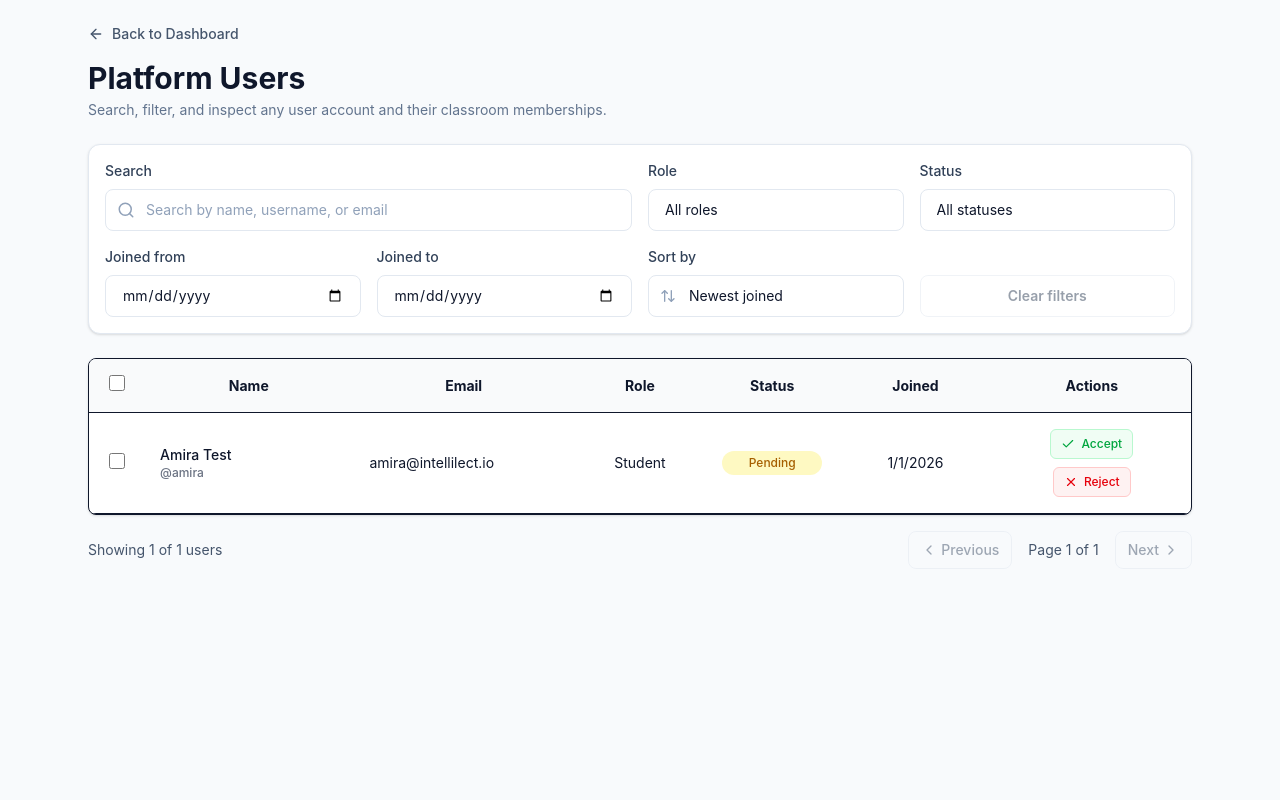
it: UsersDirectoryPage bulk status changes › clearing the selection hides the action bar
Expected: the text "Amira Test" is shown, top-left (160, 446), bottom-right (232, 463)
Click the checkbox named "Select Amira Test".
click(116, 460)  # box top-left (108, 452), bottom-right (124, 468)
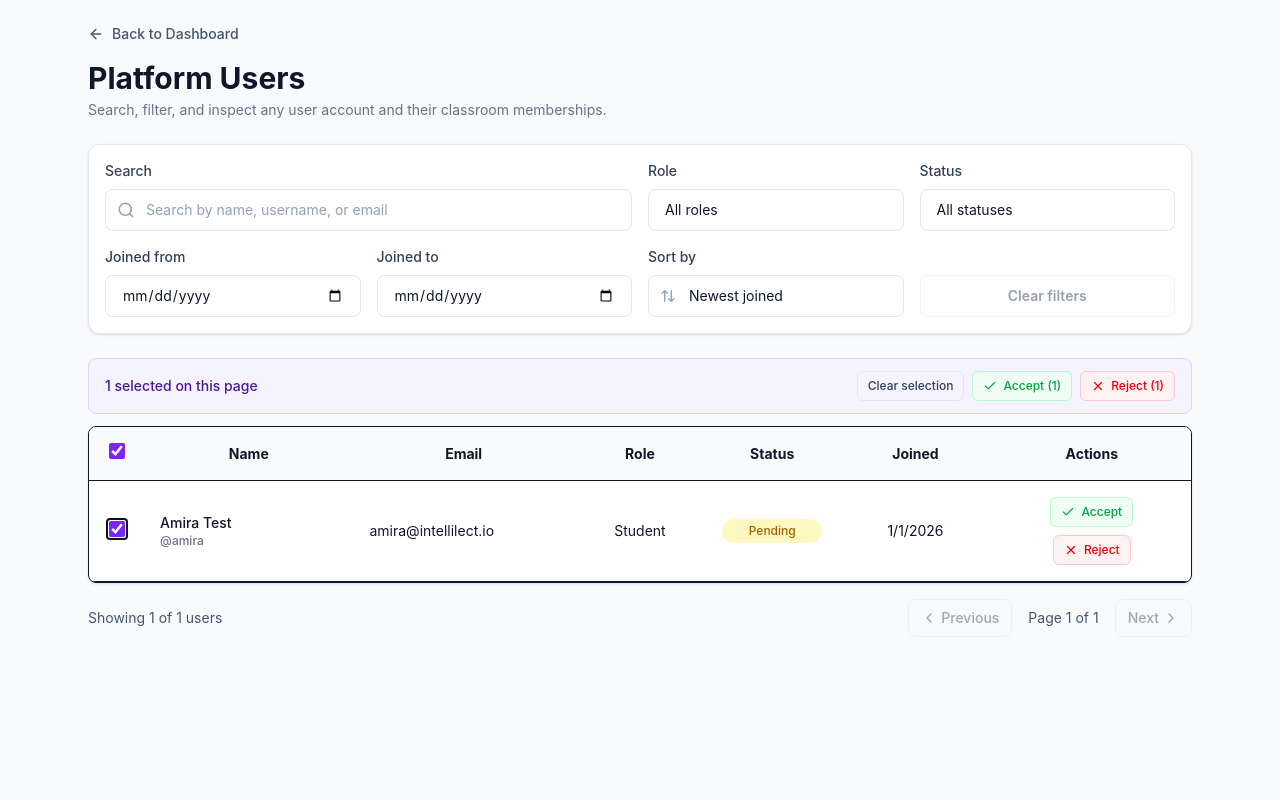
Expected: the text "1 selected on this page" is shown, top-left (105, 376), bottom-right (258, 396)
Click the button "Clear selection".
click(910, 386)  # box top-left (857, 371), bottom-right (964, 401)
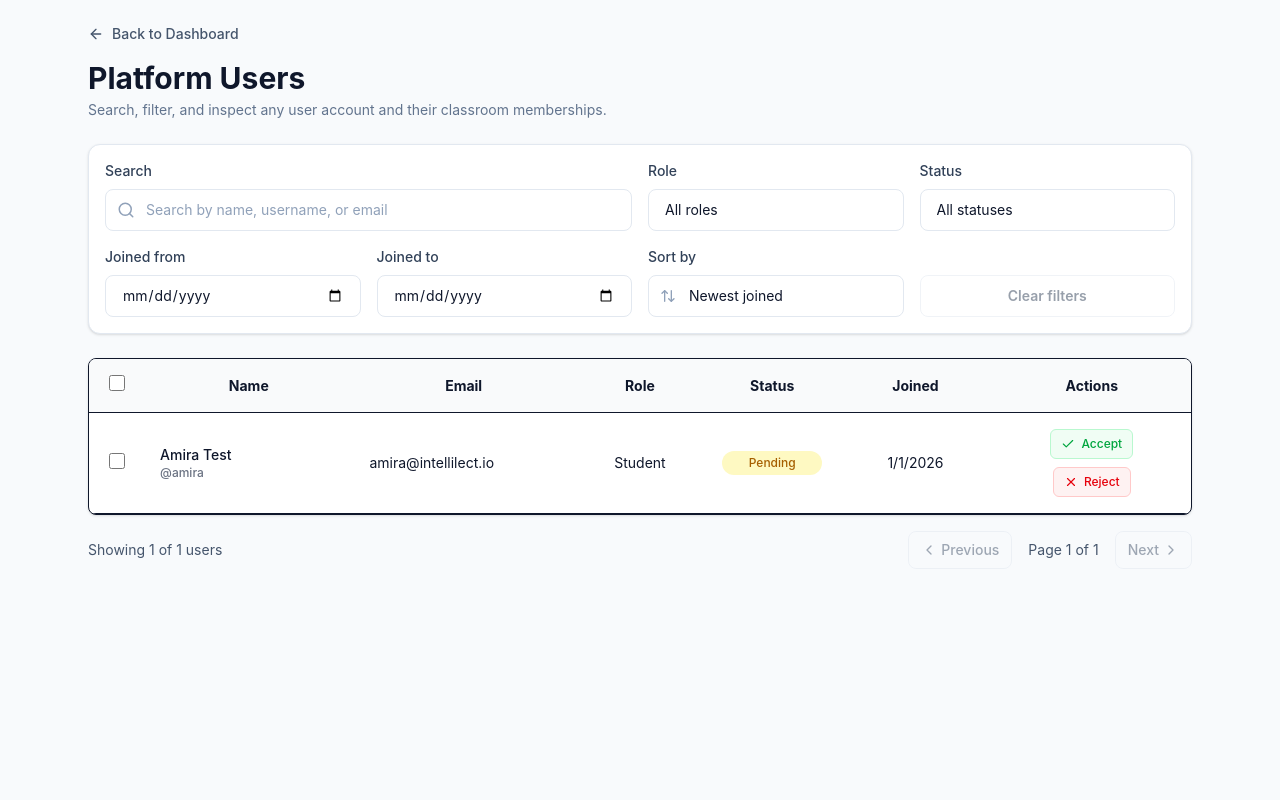
Expected: the text "selected on this page" is gone
